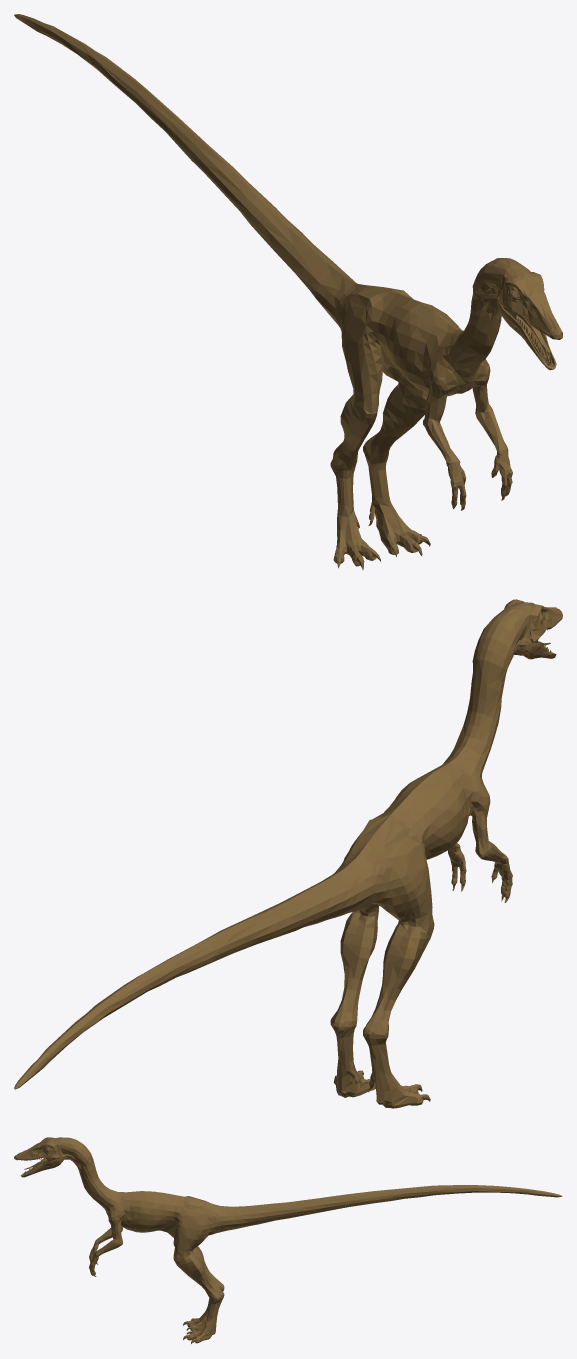
File: snapper.glb
3 renders of one model, top to bottom at view 1: azimuth 30°, elevation 25°; view 2: azimuth 150°, elevation 25°; view 3: azimuth 270°, elevation 25°, orthographic. The views are drawn at different scales.
Size of the model in its own units: 2.17 by 8.64 by 22.02.
Materials: 1 (1 with a texture image).
